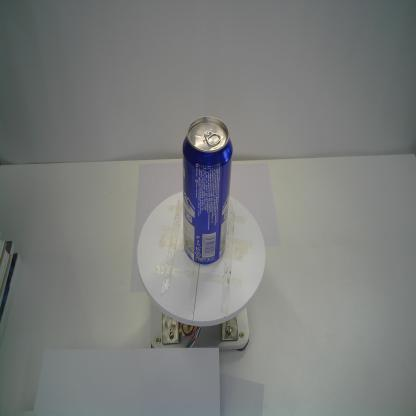Alcohol: (181, 115, 233, 265)
